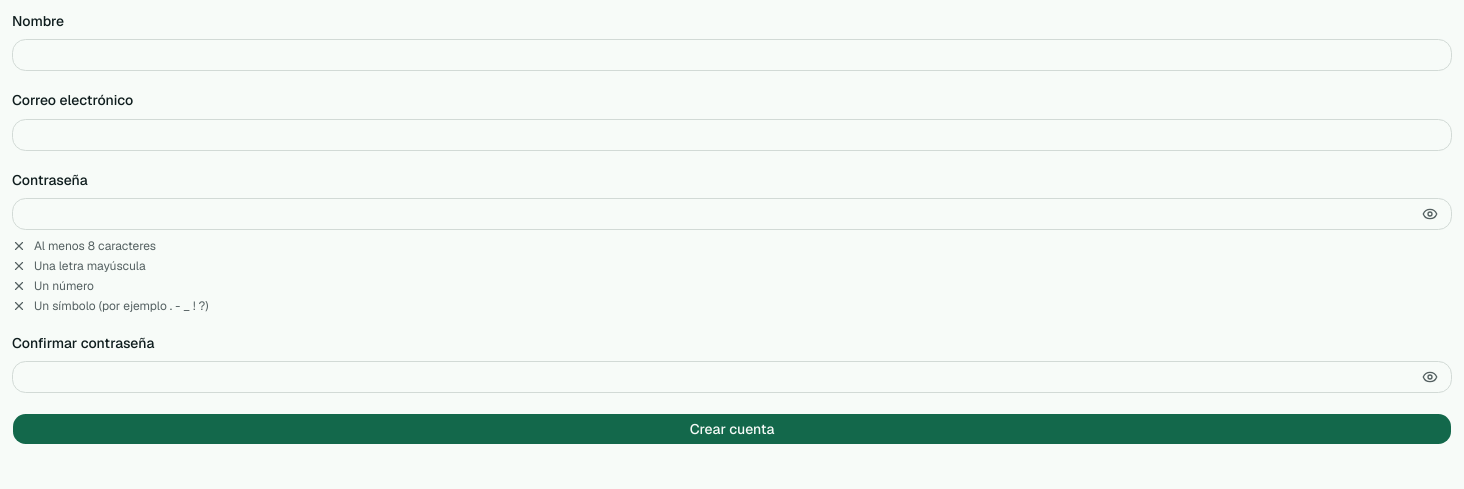
Test case: SignupForm › maps 422 field-specific issues from the API to the right field
The width and height of the screenshot is (1464, 489).
In the field labelled "Nombre": (732, 55) [12,39,1452,71], type "Ana Pérez"
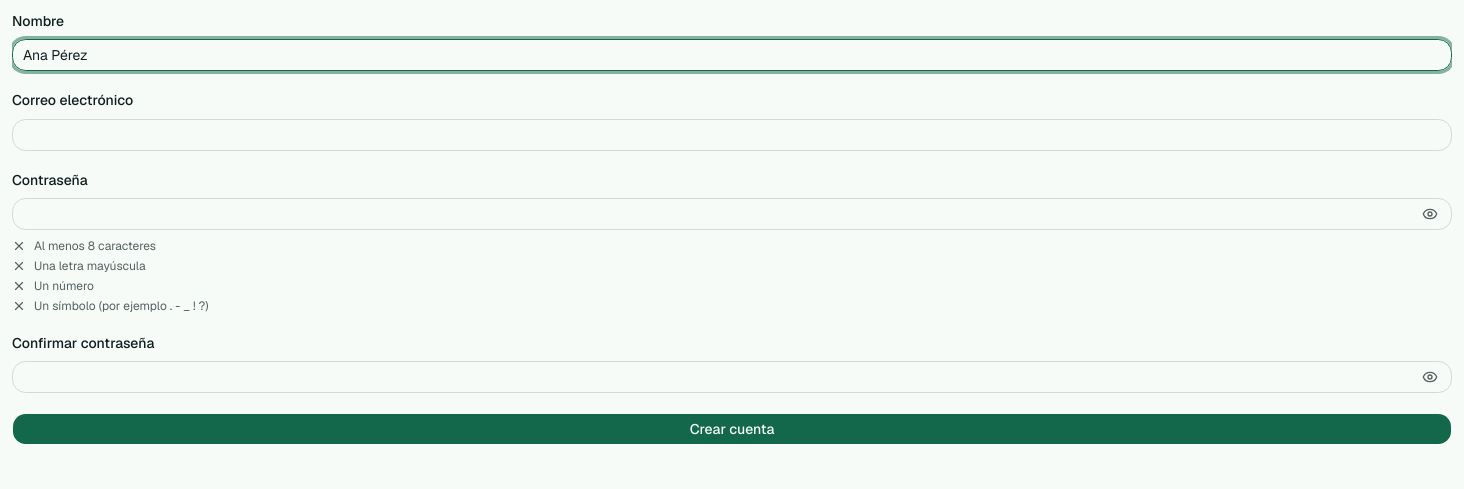
In the field labelled "Correo electrónico": (732, 134) [12,118,1452,150], type "ana@example.com"
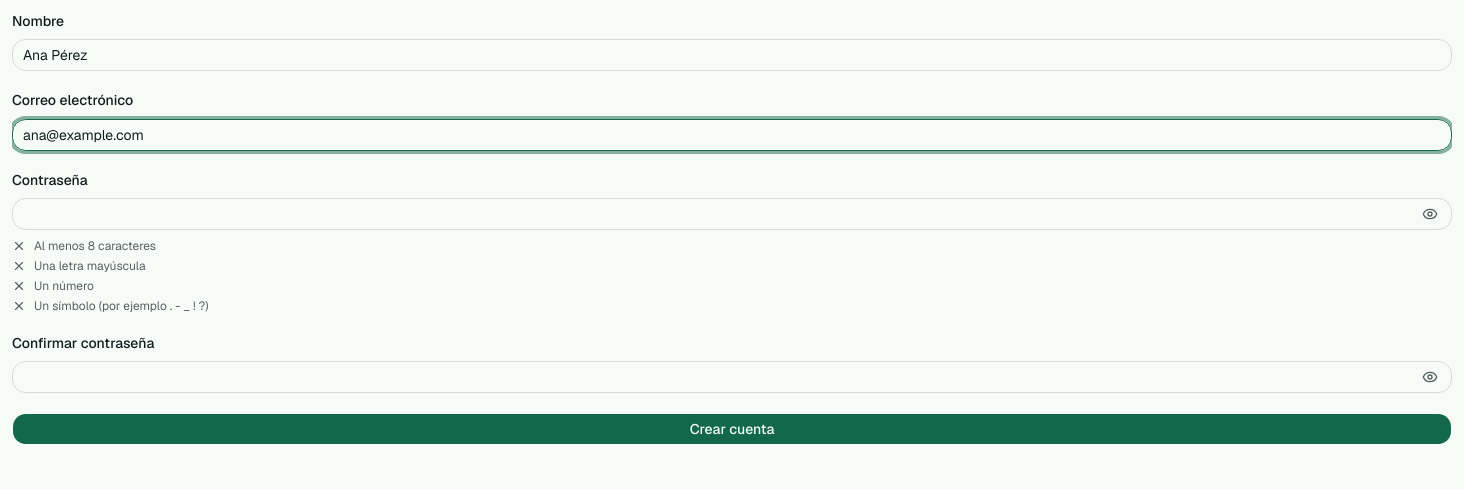
In the password field labelled "Contraseña": (732, 214) [12,198,1452,230], type "SecurePass123!"
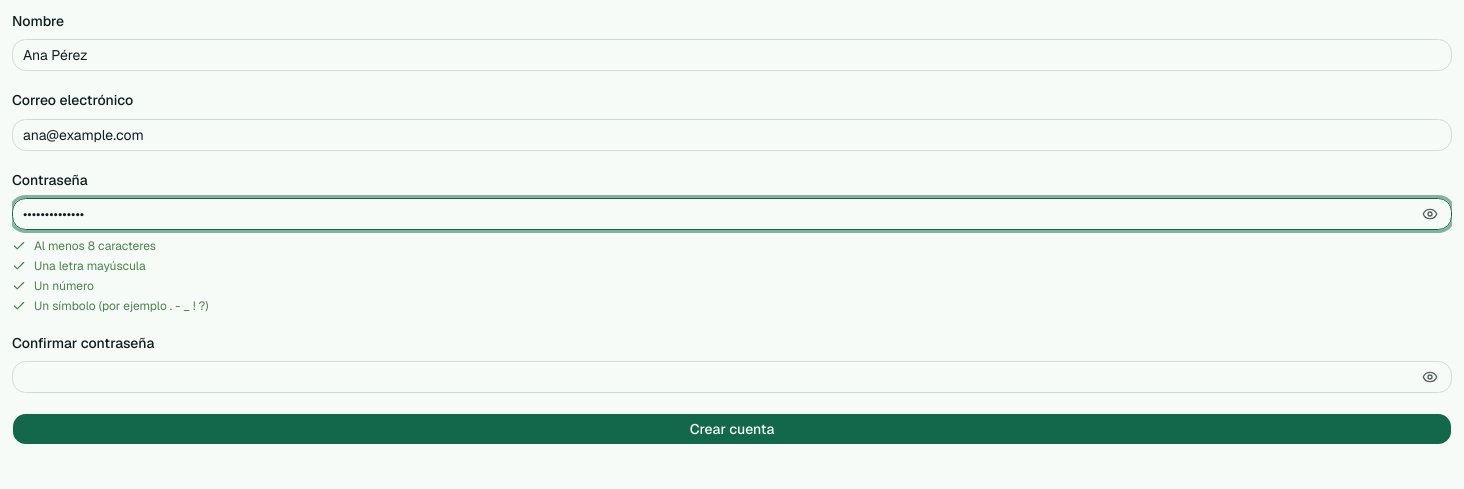
In the password field labelled "Confirmar contraseña": (732, 377) [12,361,1452,393], type "SecurePass123!"
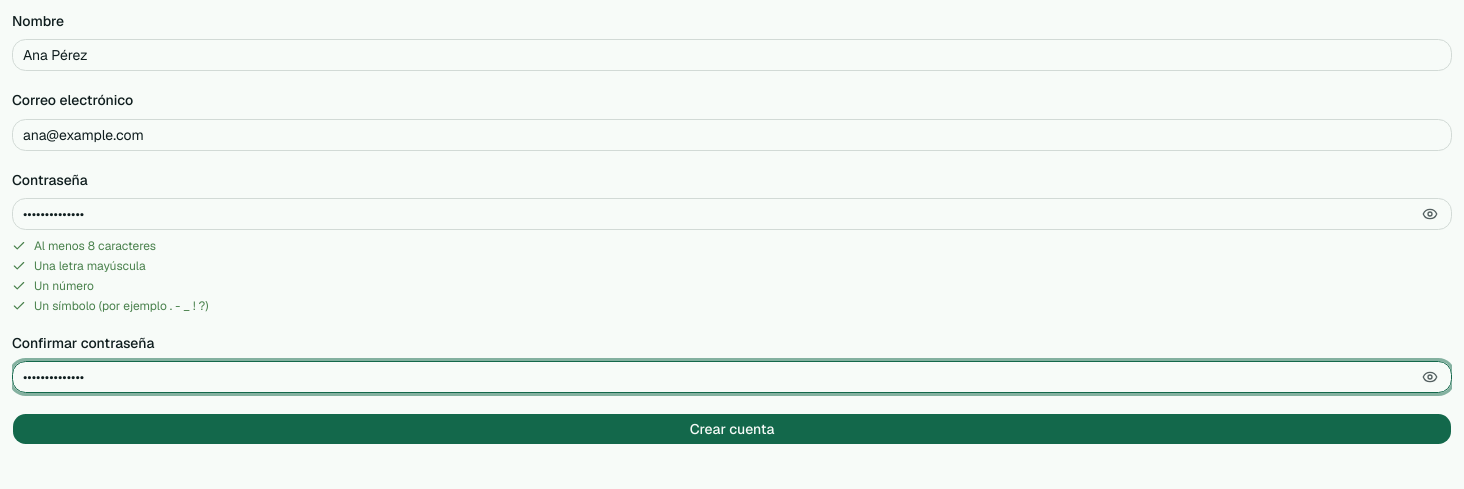
Click the button "Crear cuenta": (732, 429) [12,413,1452,445]
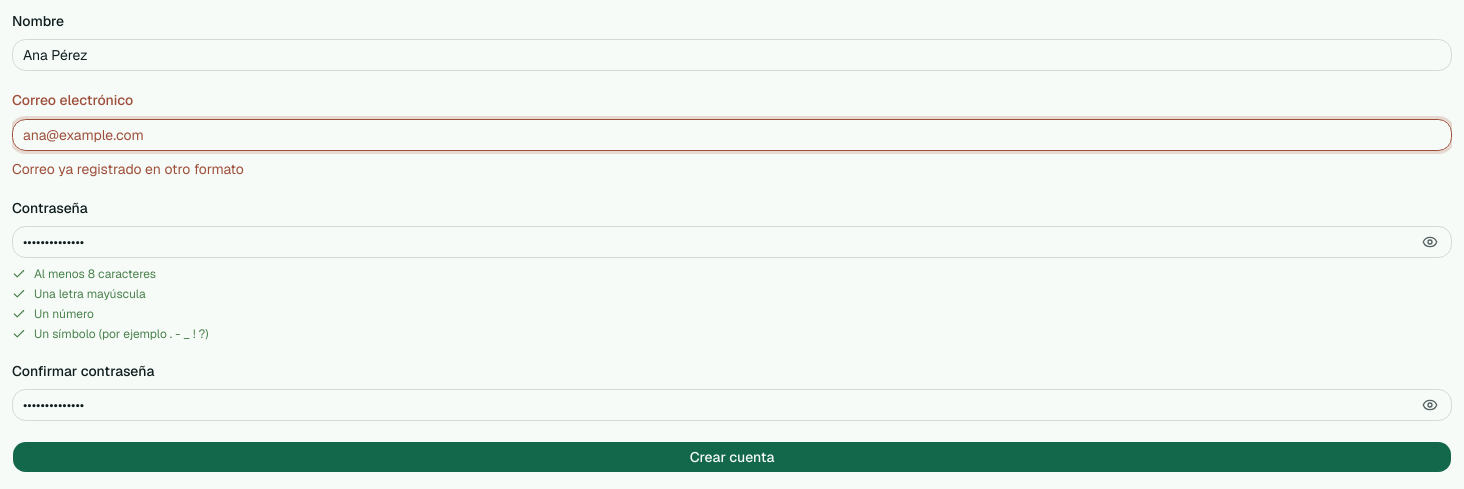
expect the text "Correo ya registrado en otro formato" is shown: met, box [12,160,244,178]
